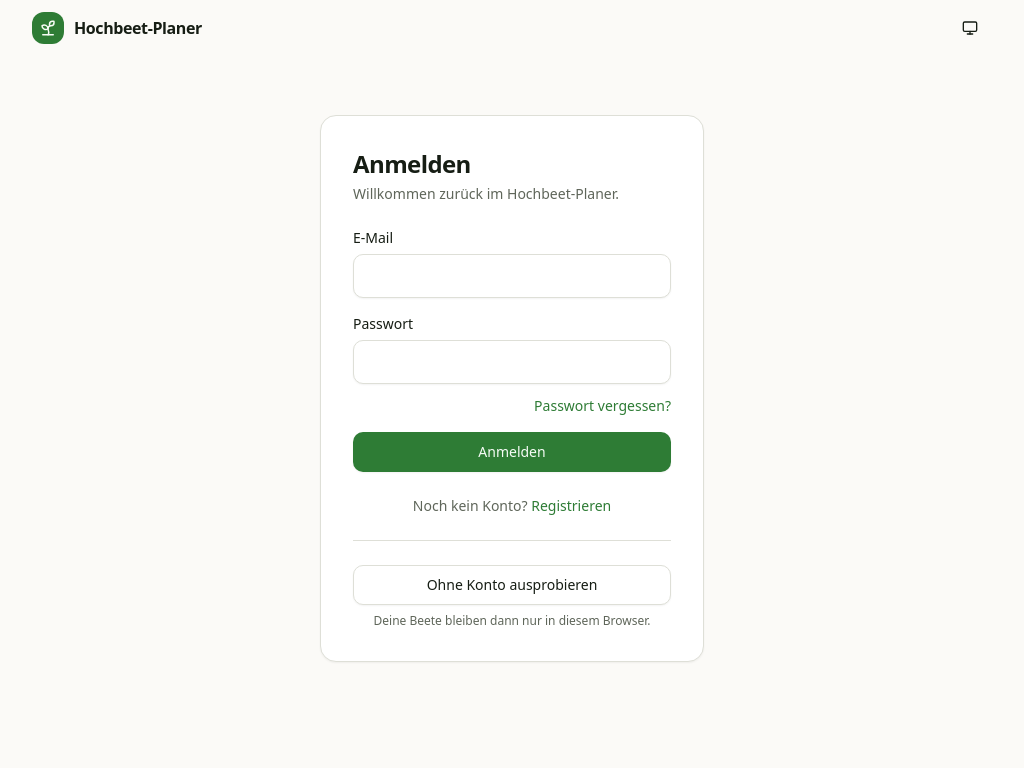
Test: App › signed out › shows a German error for wrong credentials
This screenshot has width=1024, height=768.
In the field labelled "E-Mail": x=512, y=276 [353,254,671,298], type "test@example.com"
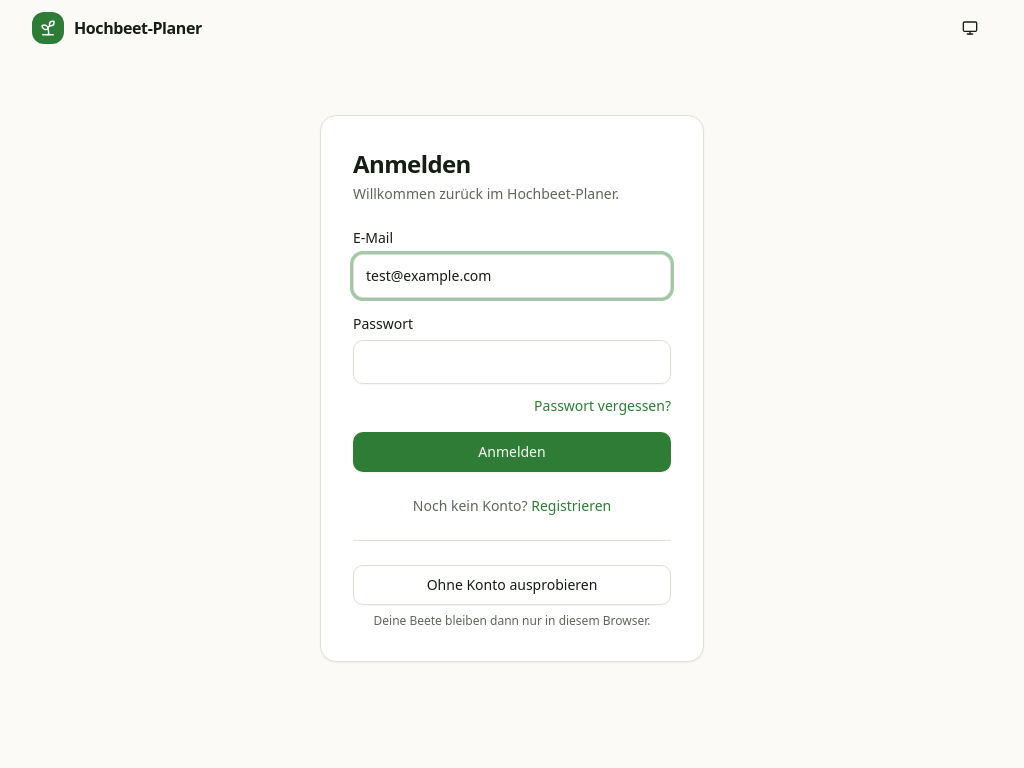
In the password field labelled "Passwort": x=512, y=362 [353,340,671,384], type "falsch"
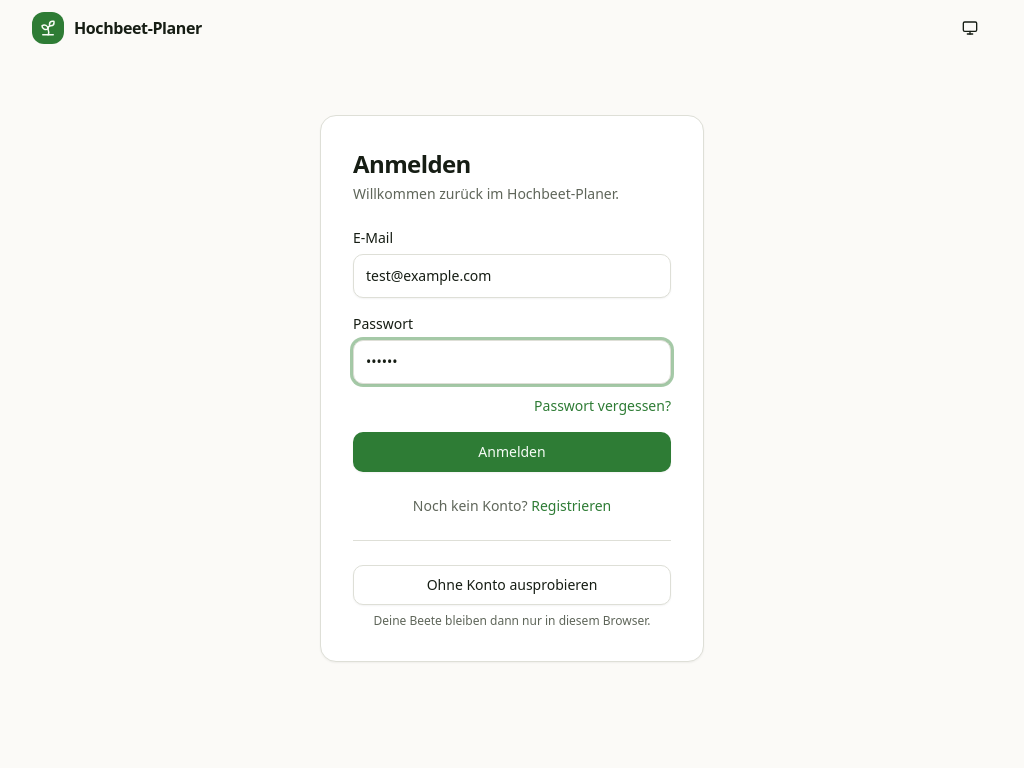
Click the button "Anmelden": x=512, y=452 [353,432,671,472]
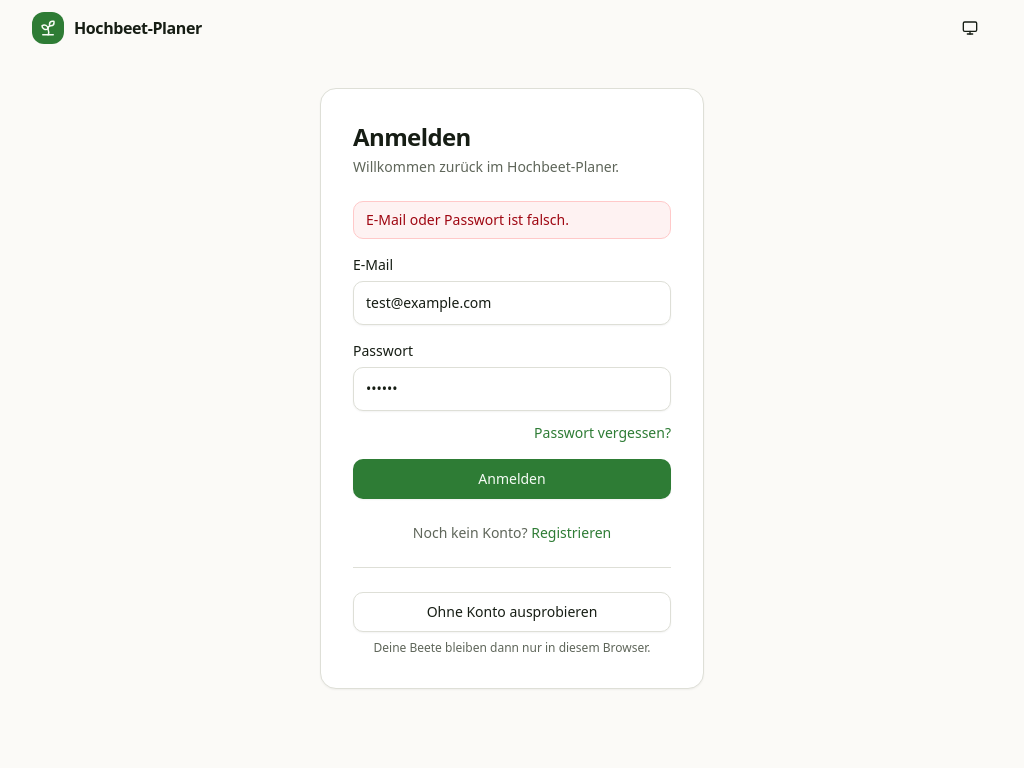
expect the message reads "E-Mail oder Passwort ist falsch.": met, box [366,210,569,228]
